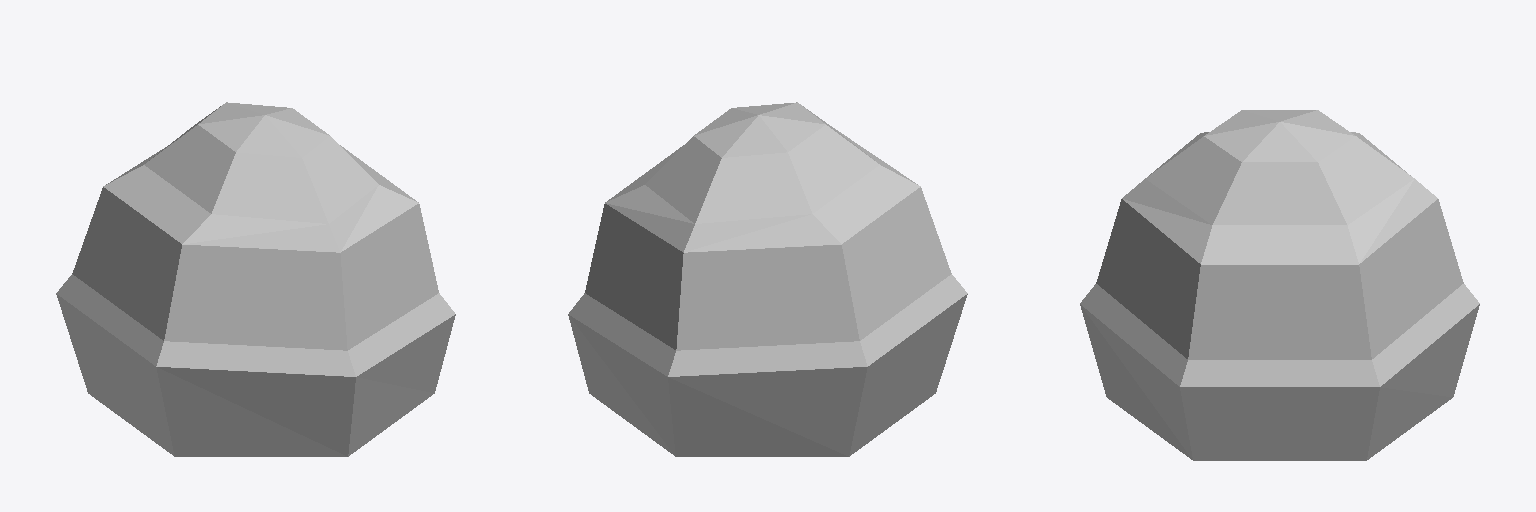
Rendered from rock__medium 1.obj.
The picture shows the model from 3 angles: view 1: azimuth 30°, elevation 25°; view 2: azimuth 150°, elevation 25°; view 3: azimuth 270°, elevation 25°; orthographic projection.
Parts seen in each view (by area): view 1: Rock01_Sphere.001; view 2: Rock01_Sphere.001; view 3: Rock01_Sphere.001.
Part boxes in pixels (x1,y1,x2,y2): Rock01_Sphere.001: (56, 102, 455, 456); Rock01_Sphere.001: (568, 102, 967, 456); Rock01_Sphere.001: (1080, 110, 1479, 460).
Bounding box in the file's own units: 1.73 × 1.53 × 2.